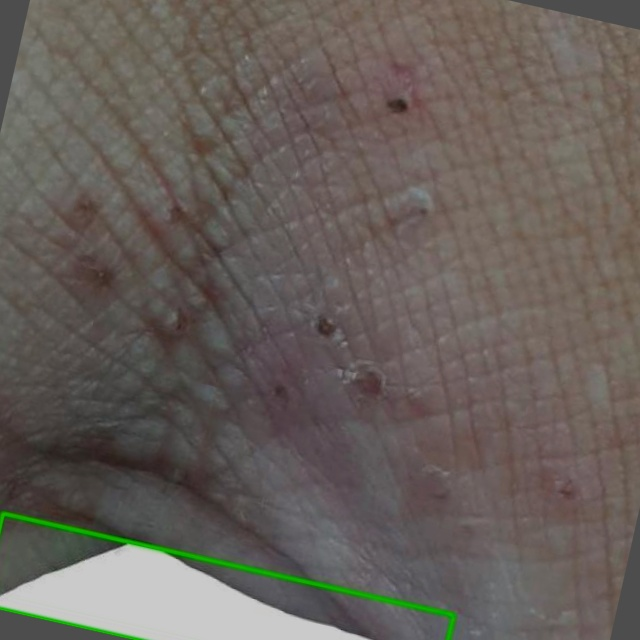Scabies: (0, 513, 453, 639)
